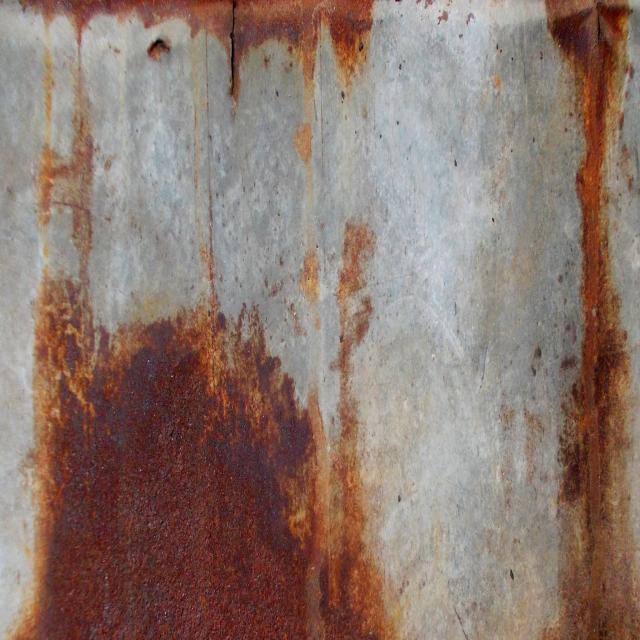Uniform Corrosion: (22, 281, 385, 639), (546, 0, 640, 639), (19, 0, 374, 165), (309, 223, 384, 631), (39, 59, 93, 283)
